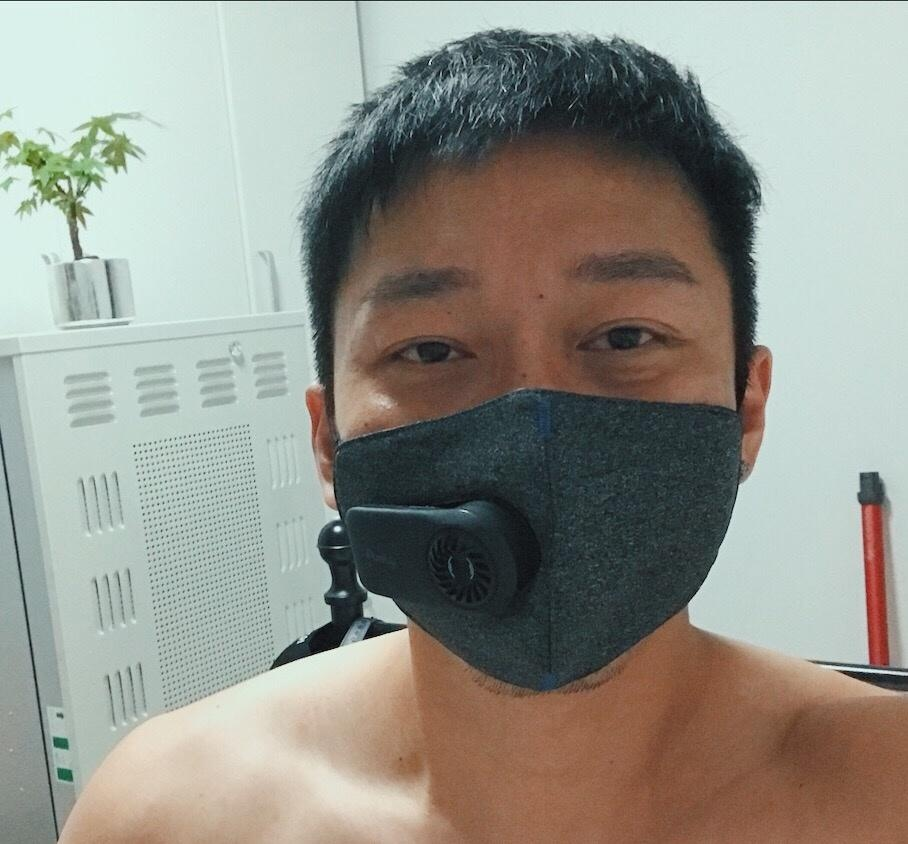Mask: (331, 250, 767, 686)
